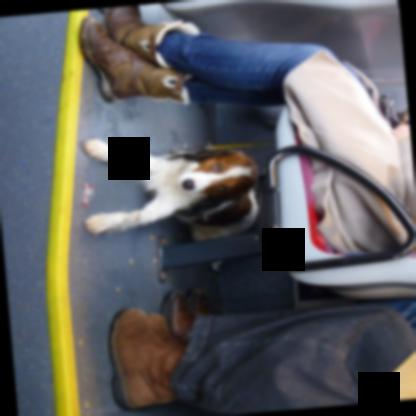handbag: (381, 92, 409, 129)
